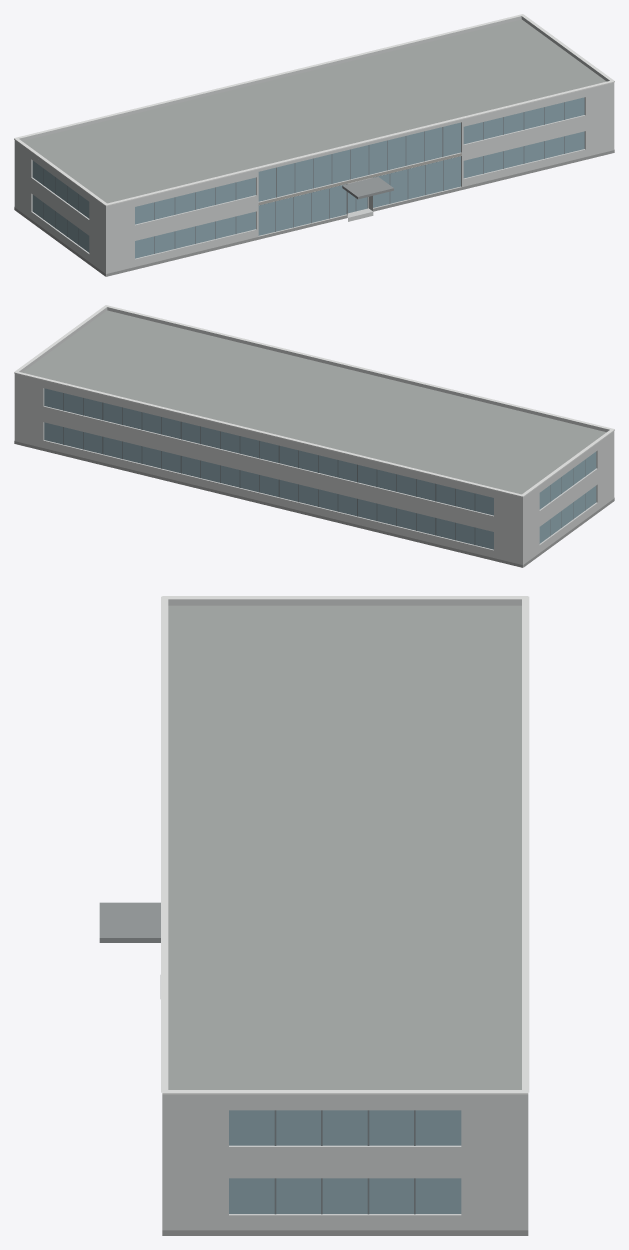
3 renders of one model, top to bottom at view 1: azimuth 30°, elevation 25°; view 2: azimuth 150°, elevation 25°; view 3: azimuth 270°, elevation 25°, orthographic. The views are drawn at different scales.
Visible parts, largest first — view 1: b115951749__roof, b115951749__glass, b115951749__wall, b115951749__parapet, b115951749__trim, b115951749__base, b115951749__frame, b115951749__spandrel, b115951749__canopy; view 2: b115951749__roof, b115951749__wall, b115951749__glass, b115951749__parapet, b115951749__trim, b115951749__base, b115951749__frame; view 3: b115951749__roof, b115951749__wall, b115951749__glass, b115951749__trim, b115951749__parapet, b115951749__canopy, b115951749__base.
Boxes of the visible parts, <box> form: b115951749__roof: <box>22,19,606,203</box>; b115951749__glass: <box>32,97,584,258</box>; b115951749__wall: <box>14,84,614,276</box>; b115951749__parapet: <box>14,16,614,208</box>; b115951749__trim: <box>14,14,614,206</box>; b115951749__base: <box>14,150,614,276</box>; b115951749__frame: <box>43,102,564,253</box>; b115951749__spandrel: <box>258,153,461,236</box>; b115951749__canopy: <box>342,177,393,199</box>; b115951749__roof: <box>22,310,606,494</box>; b115951749__wall: <box>14,375,614,567</box>; b115951749__glass: <box>44,388,596,549</box>; b115951749__parapet: <box>14,307,614,499</box>; b115951749__trim: <box>14,305,614,497</box>; b115951749__base: <box>14,441,614,567</box>; b115951749__frame: <box>63,393,585,544</box>; b115951749__roof: <box>168,605,521,1089</box>; b115951749__wall: <box>162,1099,528,1230</box>; b115951749__glass: <box>229,1110,461,1213</box>; b115951749__trim: <box>161,596,529,1094</box>; b115951749__parapet: <box>162,599,528,1099</box>; b115951749__canopy: <box>99,902,160,942</box>; b115951749__base: <box>162,1230,528,1235</box>.
Size of the model in its own units: 56.34 by 7.95 by 20.59.
